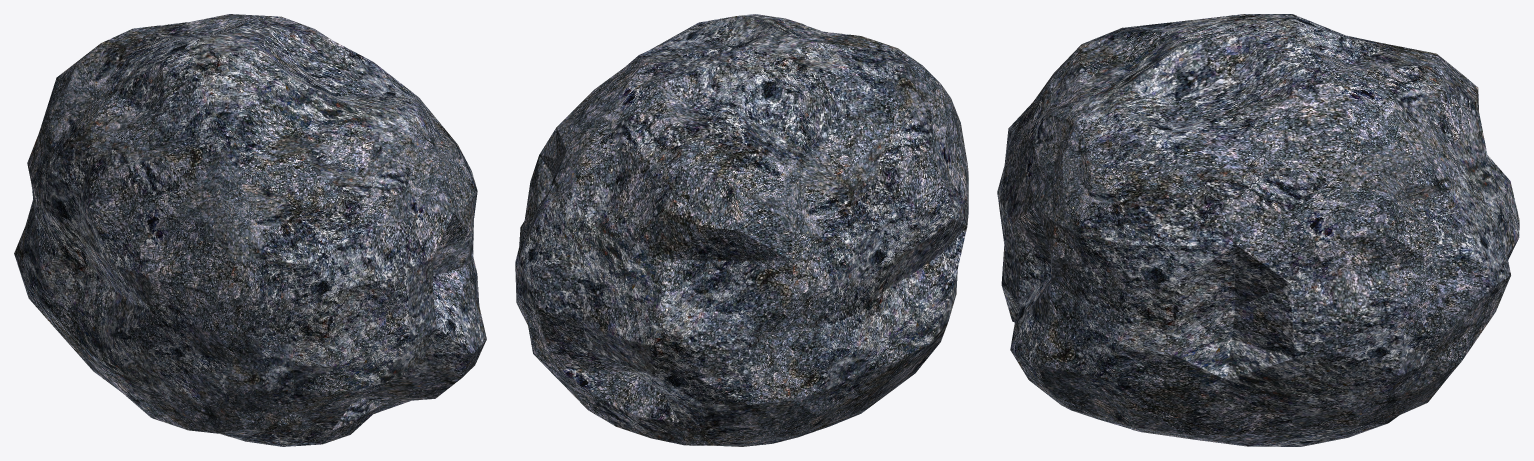
Rendered from asteroid_iron_small_s01_l0.fbx.
3 renders of one model, left to right at view 1: azimuth 30°, elevation 25°; view 2: azimuth 150°, elevation 25°; view 3: azimuth 270°, elevation 25°, orthographic. The views are drawn at different scales.
Parts seen in each view (by area): view 1: mesh_node; view 2: mesh_node; view 3: mesh_node.
Boxes of the visible parts, box(x1,y1,x2,y2) form: mesh_node: box(14, 14, 486, 446); mesh_node: box(515, 14, 968, 446); mesh_node: box(997, 14, 1519, 446).
Size of the model in its own units: 25.07 by 25.26 by 30.77.
